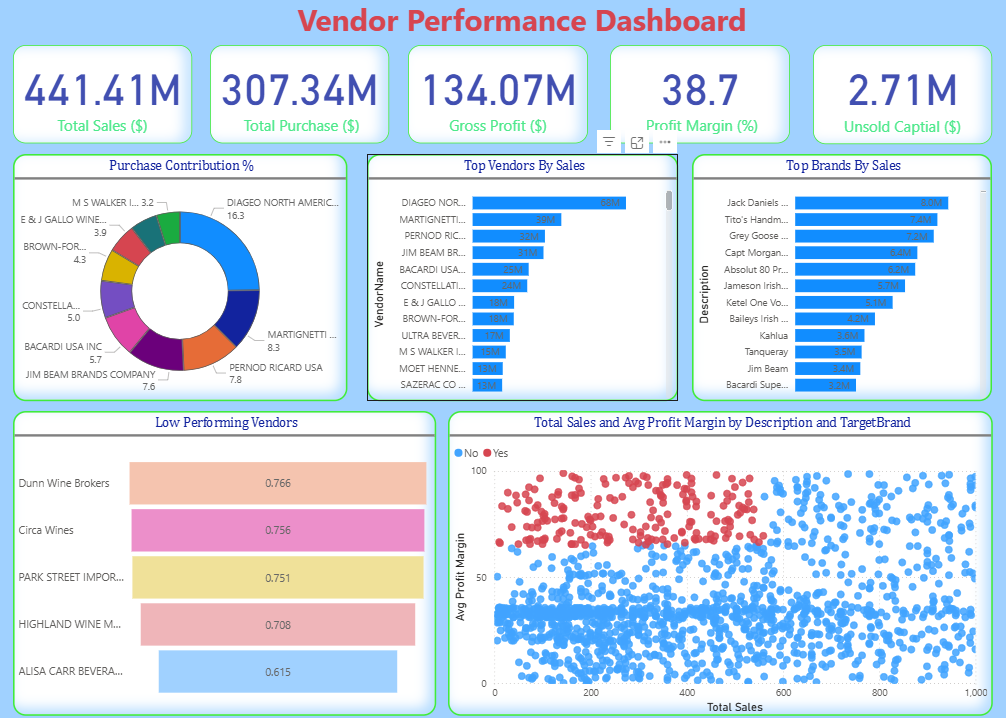

The page's visual inventory and layout, read from the dashboard file:
{"tool":"powerbi","page":{"name":"Page 1","canvas":[1280,910],"ordinal":0},"visuals":[{"type":"card","fields":{"Values":["Sum(vendor_sales_summary.TotalPurchaseDollars)"]},"box":[270,62.5,223.8,122.5],"z":0},{"type":"card","fields":{"Values":["Sum(vendor_sales_summary.TotalsalesDollars)"]},"box":[23.8,62.5,223.8,122.5],"z":1000},{"type":"card","fields":{"Values":["Sum(vendor_sales_summary.UnsoldCaptial)"]},"box":[1023.8,62.5,223.8,123.8],"z":2000},{"type":"card","fields":{"Values":["Avg(vendor_sales_summary.ProfitMargin)"]},"box":[770,62.5,225,122.5],"z":3000},{"type":"card","fields":{"Values":["Sum(vendor_sales_summary.GrossProfit)"]},"box":[517.5,62.5,225,122.5],"z":4000},{"type":"donutChart","title":"Purchase Contribution %","fields":{"Category":["PurchaseContribution.VendorName"],"Y":["Sum(PurchaseContribution.PurchaseContribution%)"]},"box":[23.8,198.8,417.5,308.8],"z":5000},{"type":"barChart","title":"Top Vendors By Sales","fields":{"Category":["vendor_sales_summary.VendorName"],"Y":["Sum(vendor_sales_summary.TotalsalesDollars)"]},"box":[466.2,198.8,388.8,308.8],"z":6000},{"type":"barChart","title":"Top Brands By Sales","fields":{"Category":["vendor_sales_summary.Description"],"Y":["Sum(vendor_sales_summary.TotalsalesDollars)"]},"box":[872.5,198.8,375,308.8],"z":7000},{"type":"funnel","title":"Low Performing Vendors","fields":{"Category":["LowTurnOverVendor.VendorName"],"Y":["Avg(LowTurnOverVendor.AvgStockTurnOver)"]},"box":[23.8,520,528.8,381.2],"z":8000},{"type":"scatterChart","fields":{"Category":["BrandPerformance.Description"],"X":["Sum(BrandPerformance.TotalSales)"],"Y":["Sum(BrandPerformance.AvgPRofitMargin)"],"Series":["BrandPerformance.TargetBrand"]},"box":[567.1,520,681.4,381.4],"z":9000},{"type":"textbox","box":[247.5,0,825,78.8],"z":10000}]}

Visuals, with their boxes in screenshot pixels (x1, y1, x2, y2), scaled from the page's 1280x910 canvas onto the 1006x718 screenshot:
card - Sum(vendor_sales_summary.TotalPurchaseDollars): 212/49/388/146
card - Sum(vendor_sales_summary.TotalsalesDollars): 19/49/195/146
card - Sum(vendor_sales_summary.UnsoldCaptial): 805/49/981/147
card - Avg(vendor_sales_summary.ProfitMargin): 605/49/782/146
card - Sum(vendor_sales_summary.GrossProfit): 407/49/584/146
"Purchase Contribution %" donutChart: 19/157/347/401
"Top Vendors By Sales" barChart: 366/157/672/401
"Top Brands By Sales" barChart: 686/157/980/401
"Low Performing Vendors" funnel: 19/410/434/711
scatterChart - BrandPerformance.Description x Sum(BrandPerformance.TotalSales): 446/410/981/711
textbox: 195/0/843/62
